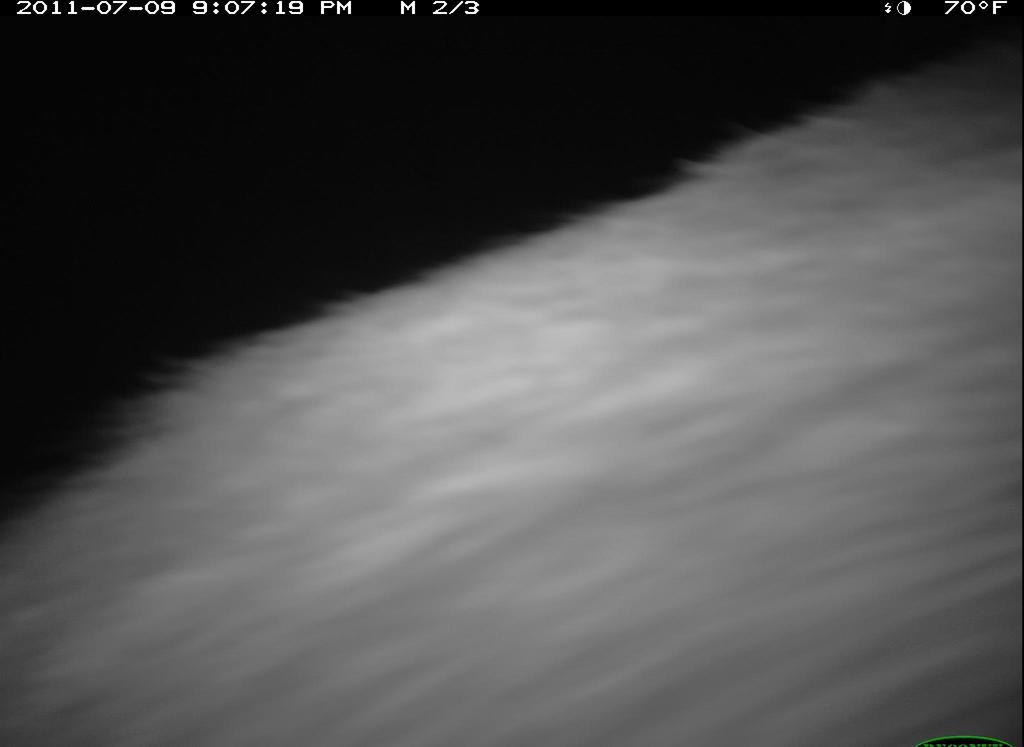raccoon: (4, 45, 1019, 747)
